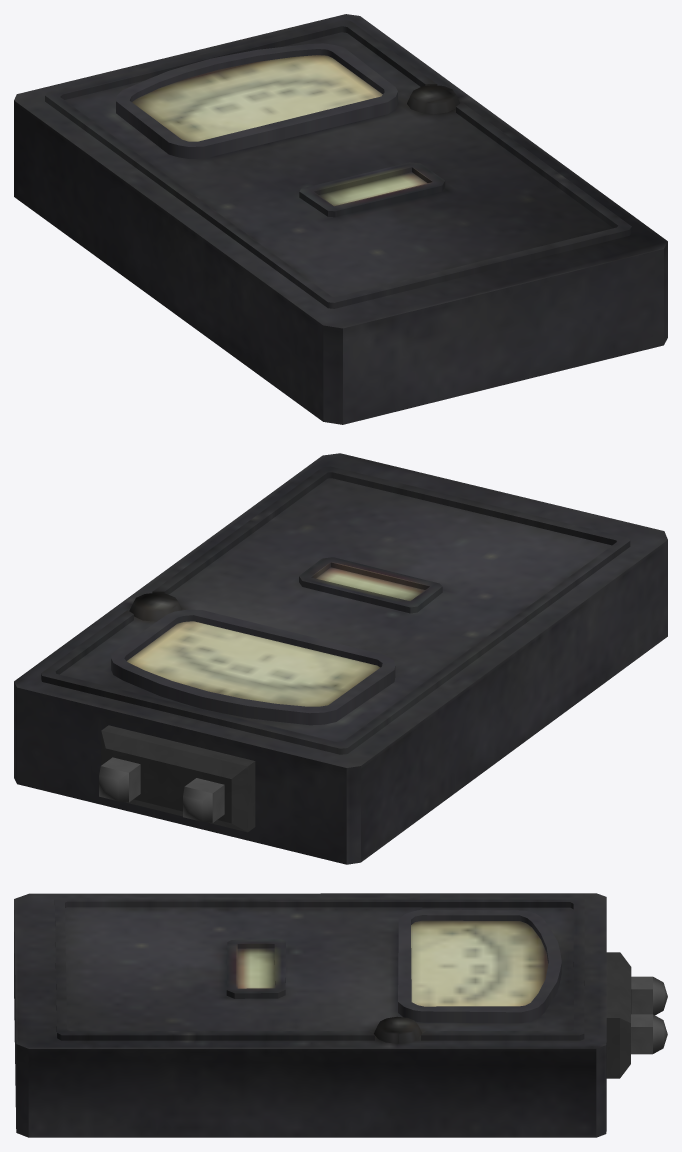
Rendered from dosimeter_4.obj.
The picture shows the model from 3 angles, top to bottom: view 1: azimuth 30°, elevation 25°; view 2: azimuth 150°, elevation 25°; view 3: azimuth 270°, elevation 25°; orthographic projection. The views are drawn at different scales.
Parts seen in each view (by area): view 1: dosimeter_4; view 2: dosimeter_4; view 3: dosimeter_4.
Boxes of the visible parts, bbox=[...] form: dosimeter_4: bbox=[14, 14, 667, 424]; dosimeter_4: bbox=[14, 453, 667, 864]; dosimeter_4: bbox=[14, 893, 667, 1137].
Bounding box in the file's own units: 0.1502 × 0.045 × 0.2667.
